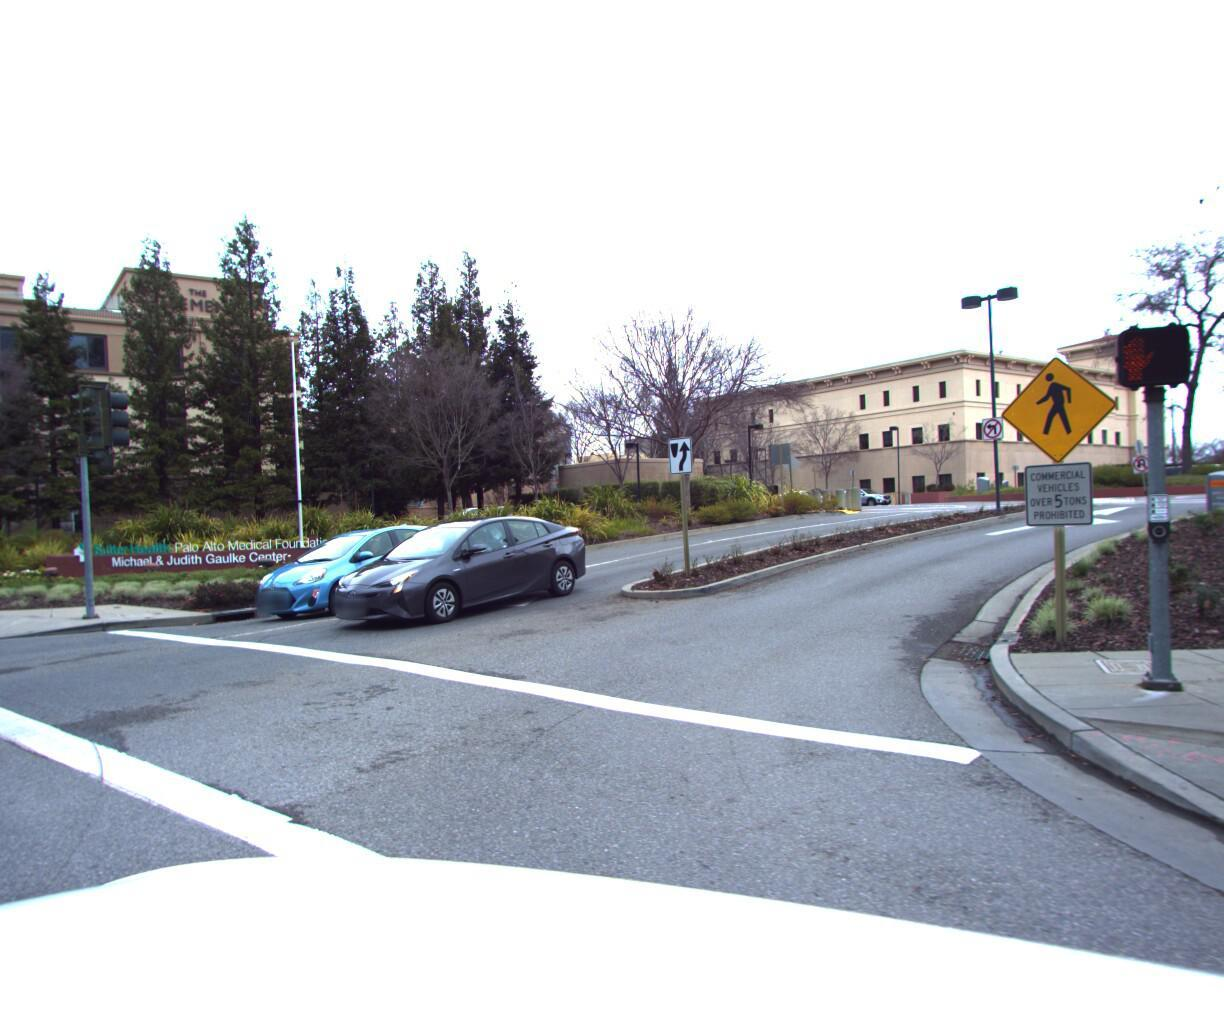car: (305, 508, 598, 628), (232, 514, 482, 619)
